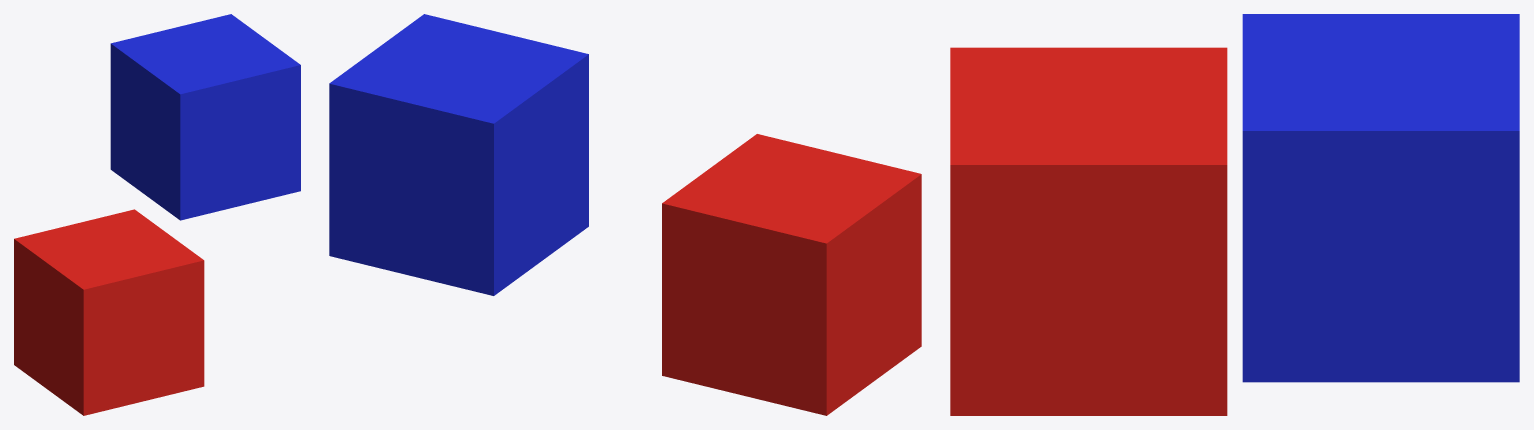
The model's file is two-cubes.gltf.
The picture shows the model from 3 angles, left to right: view 1: azimuth 30°, elevation 25°; view 2: azimuth 150°, elevation 25°; view 3: azimuth 270°, elevation 25°; orthographic projection. The views are drawn at different scales.
Visible parts, largest first — view 1: cube-red-node, cube-blue-node; view 2: cube-red-node, cube-blue-node; view 3: cube-red-node, cube-blue-node.
Boxes of the visible parts, x1=… form: cube-red-node: x1=14, y1=209, x2=204, y2=415; cube-blue-node: x1=110, y1=14, x2=300, y2=220; cube-red-node: x1=662, y1=134, x2=921, y2=415; cube-blue-node: x1=329, y1=14, x2=588, y2=295; cube-red-node: x1=950, y1=47, x2=1227, y2=415; cube-blue-node: x1=1242, y1=14, x2=1519, y2=382.
Bounding box in the file's own units: 4.82 × 3.59 × 4.11.
